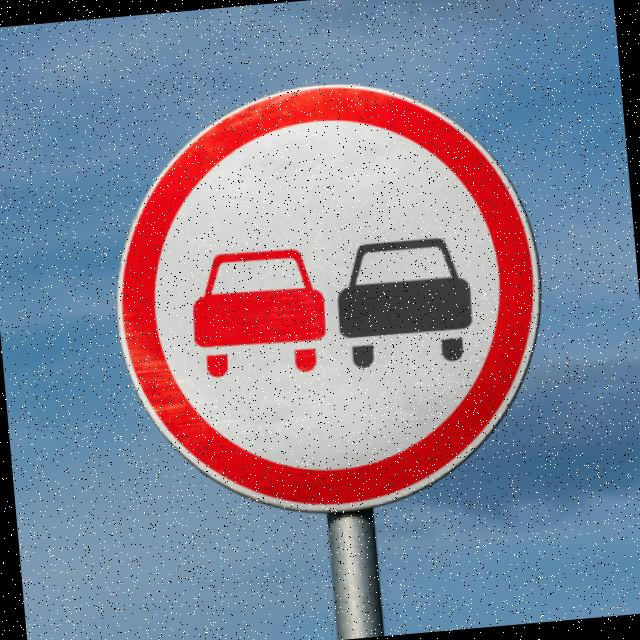no_passing: (87, 58, 564, 541)
